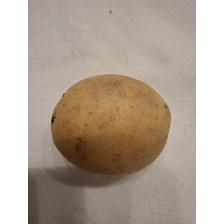Kartoffel: (50, 72, 176, 178)
